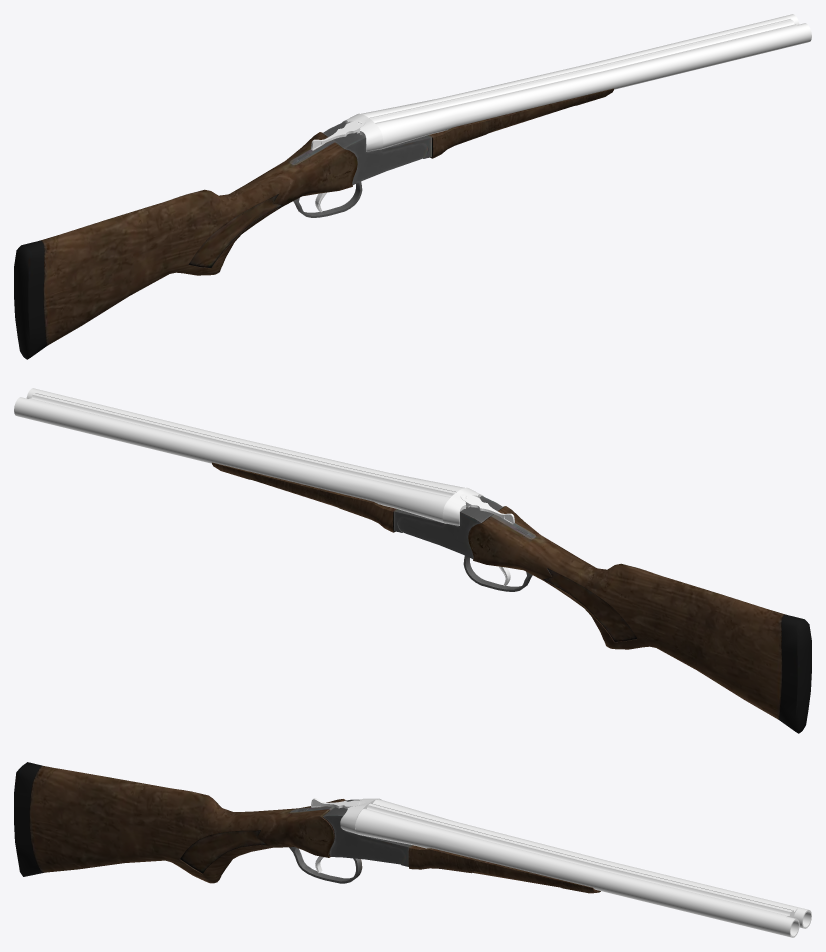
The model's file is w_escopeta.glb.
3 renders of one model, top to bottom at view 1: azimuth 30°, elevation 25°; view 2: azimuth 150°, elevation 25°; view 3: azimuth 330°, elevation 25°, orthographic.
Parts seen in each view (by area): view 1: barrel_low_barrel_low_0; view 2: barrel_low_barrel_low_0; view 3: barrel_low_barrel_low_0.
Boxes of the visible parts, box(x1,y1,x2,y2) form: barrel_low_barrel_low_0: box(14, 14, 811, 359); barrel_low_barrel_low_0: box(14, 388, 811, 733); barrel_low_barrel_low_0: box(14, 762, 811, 937).
Bounding box in the file's own units: 1.05 × 0.2004 × 0.0659.
6 materials, 2 textured.
